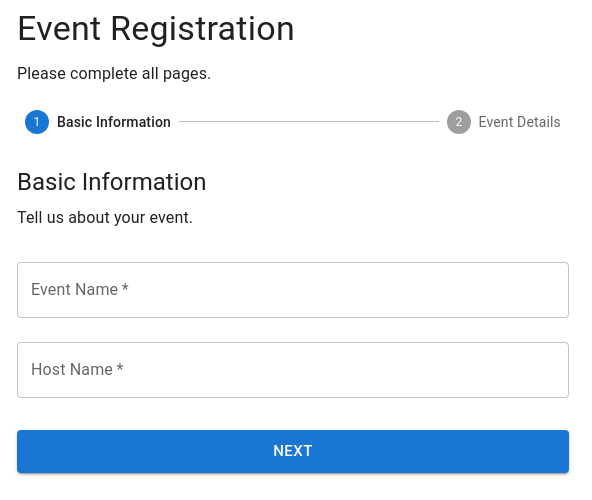
Test: DynamicForm › Multi-page form › navigates back to first page when Back is clicked
Note: Fill in required fields on first page
Type "Test Event" into the field labelled "Event Name *" at x=293, y=290, box [17,262,569,318]
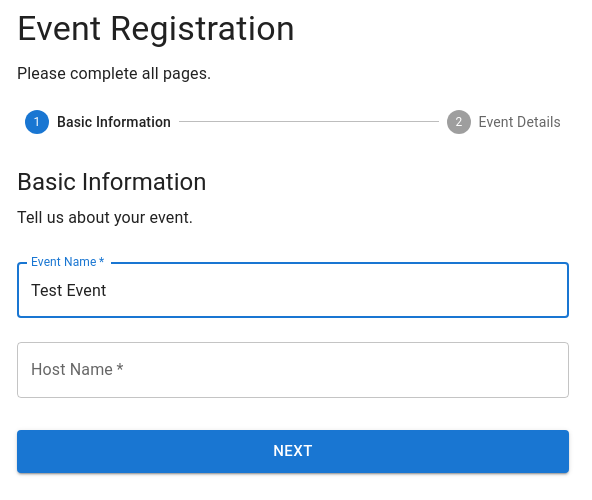
Type "Test Host" into the field labelled "Host Name *" at x=293, y=370, box [17,342,569,398]
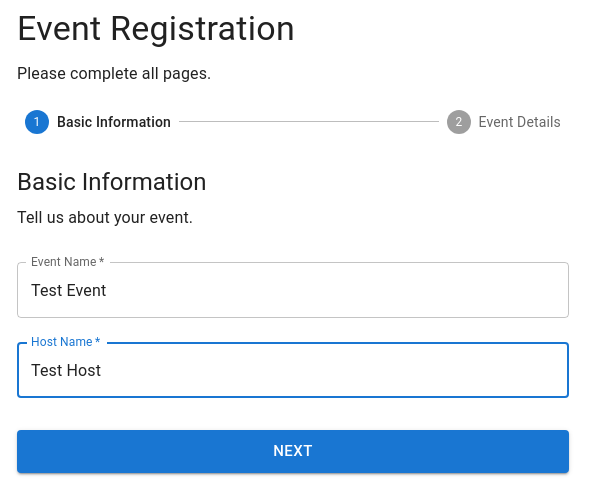
Note: Go to second page
Click the button "Next" at x=293, y=451, box [17,430,569,473]
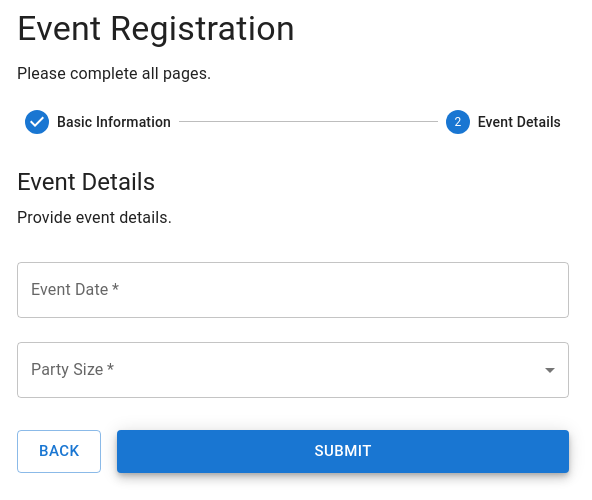
Expected: the field labelled "Event Date *" is shown, [17,262,569,318]
Note: Go back to first page
Click the button "Back" at x=59, y=451, box [17,430,101,473]
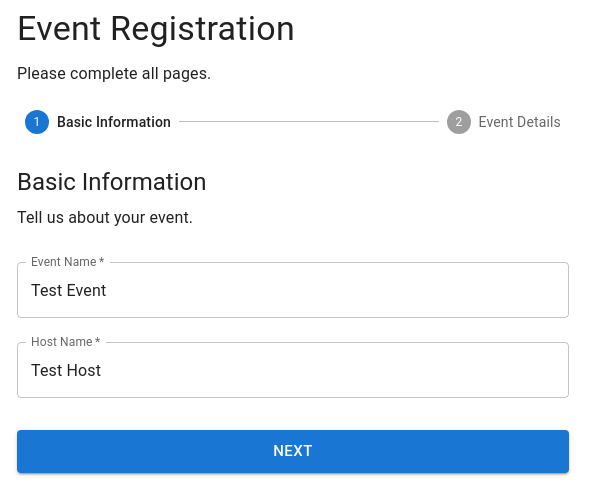
Expected: the field labelled "Event Name *" is shown, [17,262,569,318]
Expected: the label labelled "Event Date" is gone
